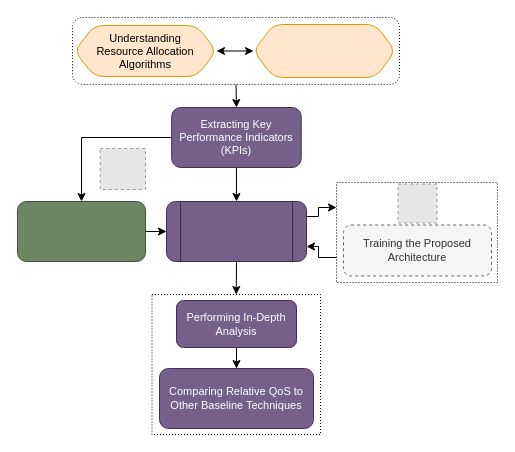
This 515x452 diagram has some shape labels left out. Grey dashed boxes stand in for pictures. Each missing label, with the centre of its shape:
"Collecting Relevant Research Papers" belongs at point 324,51.
"Modelling the Wireless Network on MATLAB" belongs at point 236,231.
"Proposing Weighted Novel improvements to Efficiency" belongs at point 81,231.
